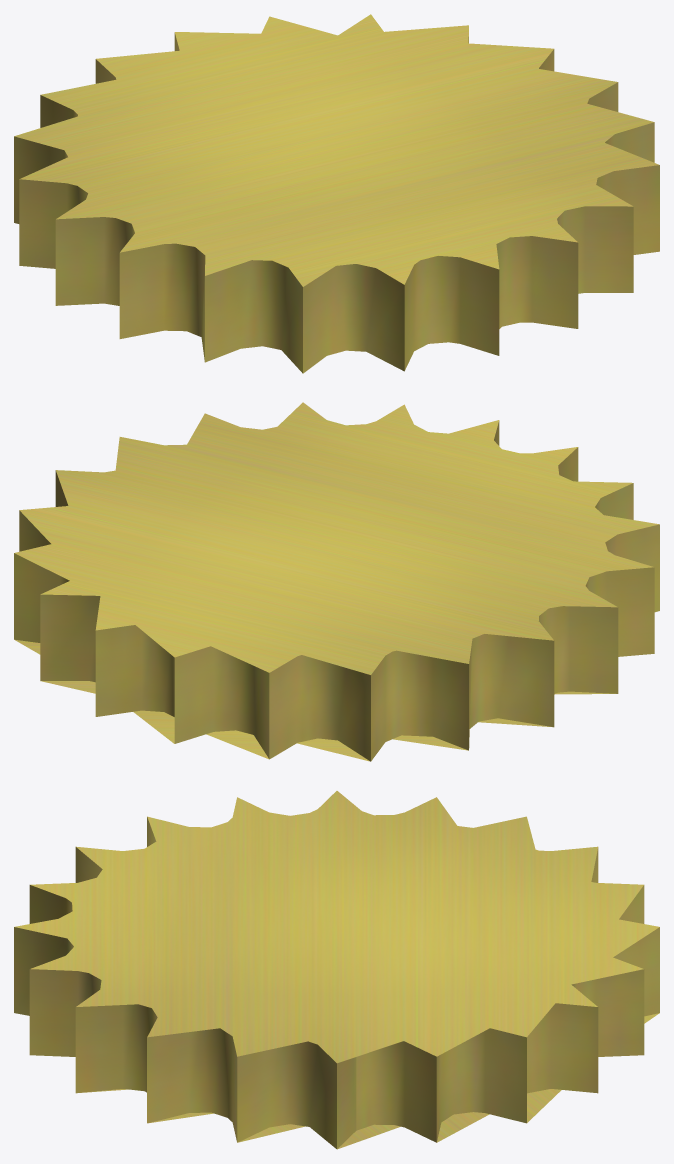
Rendered from SprocketFacet6Spoke020.fbx.
The picture shows the model from 3 angles, top to bottom: view 1: azimuth 30°, elevation 25°; view 2: azimuth 150°, elevation 25°; view 3: azimuth 270°, elevation 25°; orthographic projection.
Visible parts, largest first — view 1: SprocketFacet6Spoke020; view 2: SprocketFacet6Spoke020; view 3: SprocketFacet6Spoke020.
Boxes of the visible parts, x1=… form: SprocketFacet6Spoke020: x1=14, y1=14, x2=659, y2=373; SprocketFacet6Spoke020: x1=14, y1=402, x2=659, y2=761; SprocketFacet6Spoke020: x1=14, y1=791, x2=659, y2=1149.
Bounding box in the file's own units: 134 × 19.69 × 134.
